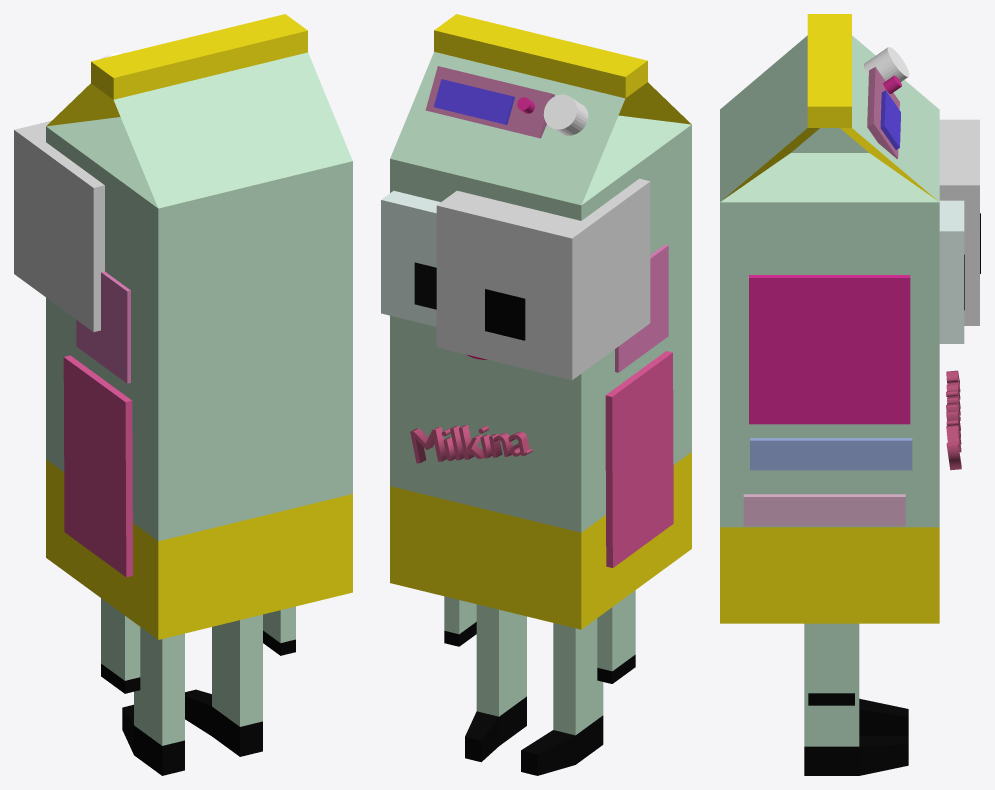
File: lechita.glb
The picture shows the model from 3 angles, left to right: view 1: azimuth 30°, elevation 25°; view 2: azimuth 150°, elevation 25°; view 3: azimuth 270°, elevation 25°; orthographic projection. The views are drawn at different scales.
Visible parts, largest first — view 1: Cube, Cube.009, Cube.007, Cube.006; view 2: Cube, Cube.009, Cube.007, Cube.008, Cube.001, Text, Cube.006, Cube.005, Cube.011, Cylinder, Cube.010; view 3: Cube, Cube.002, Cube.003, Cube.004, Cube.009, Cube.008, Text, Cube.001, Cylinder, Cube.005.
Boxes of the visible parts, bbox=[...] form: Cube: bbox=[46, 14, 352, 775]; Cube.009: bbox=[14, 120, 104, 331]; Cube.007: bbox=[63, 355, 132, 577]; Cube.006: bbox=[76, 271, 130, 383]; Cube: bbox=[390, 14, 691, 775]; Cube.009: bbox=[436, 178, 650, 380]; Cube.007: bbox=[605, 351, 673, 567]; Cube.008: bbox=[381, 190, 440, 326]; Cube.001: bbox=[425, 66, 554, 138]; Text: bbox=[410, 425, 532, 463]; Cube.006: bbox=[615, 244, 668, 372]; Cube.005: bbox=[433, 79, 514, 124]; Cube.011: bbox=[485, 289, 525, 340]; Cylinder: bbox=[543, 94, 588, 135]; Cube.010: bbox=[414, 262, 436, 309]; Cube: bbox=[720, 14, 939, 775]; Cube.002: bbox=[749, 275, 910, 424]; Cube.003: bbox=[750, 438, 912, 470]; Cube.004: bbox=[743, 494, 905, 526]; Cube.009: bbox=[939, 119, 979, 325]; Cube.008: bbox=[939, 200, 964, 343]; Text: bbox=[946, 370, 961, 470]; Cube.001: bbox=[867, 67, 899, 158]; Cylinder: bbox=[863, 47, 909, 81]; Cube.005: bbox=[880, 90, 900, 149].
Bounding box in the file's own units: 81.55 × 261 × 89.18.
